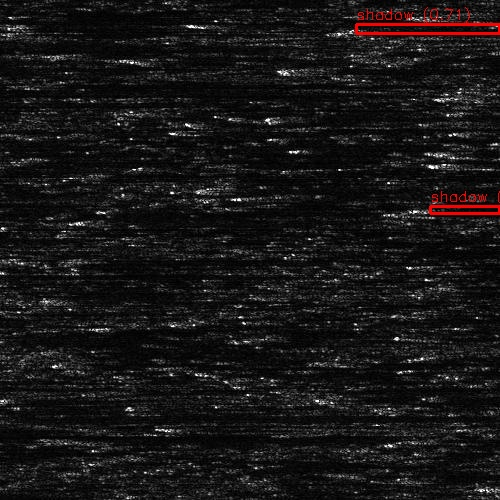rock: (141, 180, 286, 197), (0, 253, 161, 264), (410, 5, 500, 18), (378, 433, 483, 444), (242, 113, 347, 122), (270, 63, 363, 72), (356, 333, 449, 342), (427, 481, 500, 492), (377, 205, 450, 214), (91, 54, 184, 61), (334, 27, 417, 34), (443, 89, 500, 98), (106, 105, 179, 112), (274, 358, 347, 365), (0, 267, 42, 278), (409, 147, 472, 152), (275, 498, 390, 500), (420, 160, 451, 165), (425, 393, 456, 396)
shadow: (0, 431, 320, 440), (0, 267, 261, 278), (317, 63, 500, 72), (78, 253, 227, 264), (295, 113, 456, 122), (214, 180, 292, 197), (0, 410, 88, 421), (376, 27, 500, 34), (414, 205, 500, 214), (431, 433, 500, 444), (403, 333, 482, 342), (143, 105, 221, 112), (311, 358, 389, 365), (138, 54, 215, 61), (463, 5, 500, 18), (0, 490, 72, 495), (436, 160, 500, 165), (441, 147, 500, 152), (441, 393, 500, 396), (0, 14, 12, 25)
